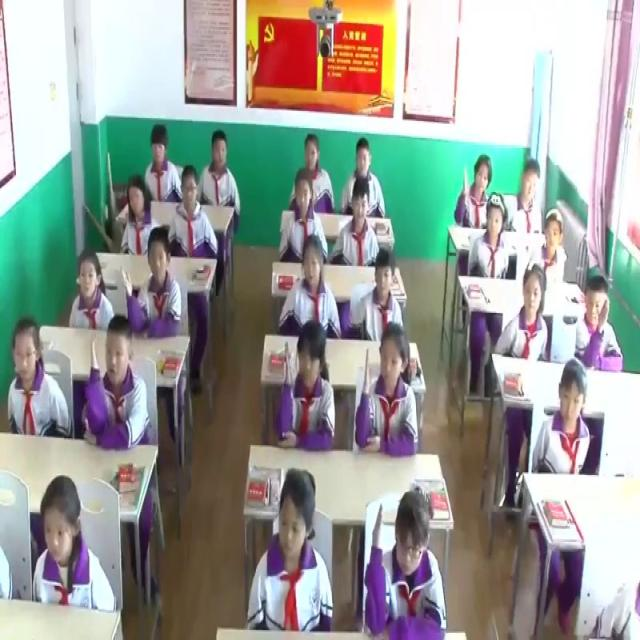focused: (252, 470, 332, 632), (34, 474, 112, 615), (8, 314, 73, 445), (537, 358, 594, 481), (277, 237, 340, 344), (346, 245, 411, 344), (502, 260, 548, 363), (280, 170, 331, 262), (168, 165, 216, 258), (336, 179, 381, 274), (465, 187, 507, 286), (343, 138, 388, 216), (197, 131, 237, 215), (146, 122, 187, 202), (70, 250, 112, 327), (118, 177, 160, 254), (528, 209, 566, 291), (299, 132, 337, 213), (510, 158, 545, 240)
raising_hand: (365, 489, 448, 640), (356, 321, 421, 460), (86, 312, 150, 450), (276, 319, 338, 455), (119, 227, 184, 336), (574, 277, 624, 375), (453, 154, 498, 230)
